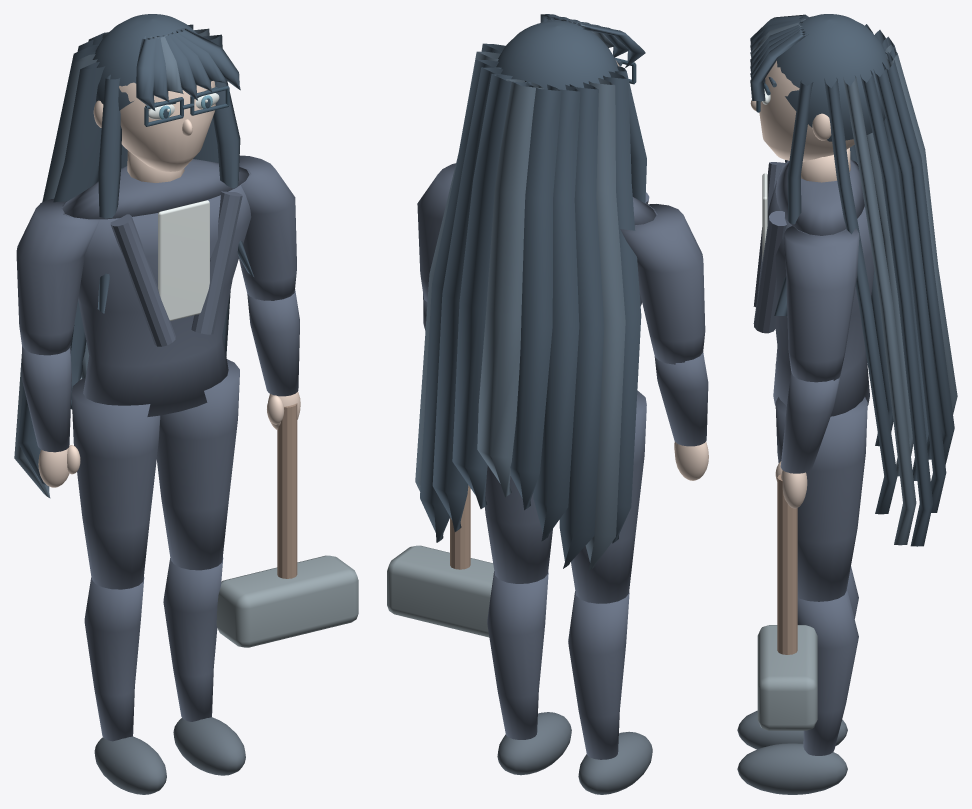
Rendered from st_hizuru_v02.fbx.
3 views of the same model, side by side, from view 1: azimuth 30°, elevation 25°; view 2: azimuth 150°, elevation 25°; view 3: azimuth 270°, elevation 25° (orthographic). The views are drawn at different scales.
Parts seen in each view (by area): view 1: TailoredTorso, Thigh, Thigh.001, HammerHead, UpperSleeve, Calf, Calf.001, UpperSleeve.001, ShirtInset, ShoulderLine, LongHair.010, Face (+23 smaller); view 2: LongHair.005, LongHair.006, LongHair.008, LongHair.007, LongHair.004, LongHair.009, UpperSleeve, LongHair.003, Calf, Calf.001, HammerHead, LongHair.010 (+13 smaller); view 3: Thigh.001, UpperSleeve.001, Scalp, LongHair.002, LongHair.001, LongHair.003, Calf.001, HammerHead, LongHair, TailoredTorso, LongHair.004, Foot.001 (+17 smaller).
Boxes of the visible parts, x1=… form: TailoredTorso: x1=62, y1=165, x2=251, y2=416; Thigh: x1=71, y1=378, x2=160, y2=589; Thigh.001: x1=156, y1=359, x2=239, y2=570; HammerHead: x1=216, y1=555, x2=358, y2=647; UpperSleeve: x1=16, y1=199, x2=100, y2=355; Calf: x1=84, y1=577, x2=144, y2=741; Calf.001: x1=163, y1=557, x2=223, y2=721; UpperSleeve.001: x1=239, y1=155, x2=296, y2=300; ShirtInset: x1=158, y1=200, x2=209, y2=320; ShoulderLine: x1=62, y1=159, x2=249, y2=219; LongHair.010: x1=18, y1=62, x2=105, y2=485; Face: x1=119, y1=81, x2=215, y2=171; LongHair.005: x1=477, y1=79, x2=543, y2=497; LongHair.006: x1=510, y1=82, x2=561, y2=510; LongHair.008: x1=559, y1=82, x2=604, y2=568; LongHair.007: x1=533, y1=84, x2=580, y2=541; LongHair.004: x1=452, y1=74, x2=529, y2=508; LongHair.009: x1=585, y1=78, x2=625, y2=570; UpperSleeve: x1=620, y1=204, x2=705, y2=364; LongHair.003: x1=432, y1=67, x2=512, y2=531; Calf: x1=568, y1=591, x2=629, y2=759; Calf.001: x1=487, y1=571, x2=548, y2=739; HammerHead: x1=387, y1=545, x2=494, y2=637; LongHair.010: x1=603, y1=71, x2=641, y2=543; Thigh.001: x1=775, y1=397, x2=867, y2=601; UpperSleeve.001: x1=784, y1=225, x2=859, y2=382; Scalp: x1=777, y1=14, x2=889, y2=141; LongHair.002: x1=860, y1=70, x2=932, y2=546; LongHair.001: x1=843, y1=76, x2=916, y2=545; LongHair.003: x1=873, y1=62, x2=946, y2=512; Calf.001: x1=797, y1=589, x2=858, y2=755; HammerHead: x1=757, y1=625, x2=817, y2=730; LongHair: x1=824, y1=78, x2=897, y2=514; TailoredTorso: x1=767, y1=161, x2=874, y2=416; LongHair.004: x1=882, y1=52, x2=954, y2=464; Foot.001: x1=737, y1=743, x2=847, y2=794.
Bounding box in the file's own units: 0.79 × 1.8 × 0.478.
